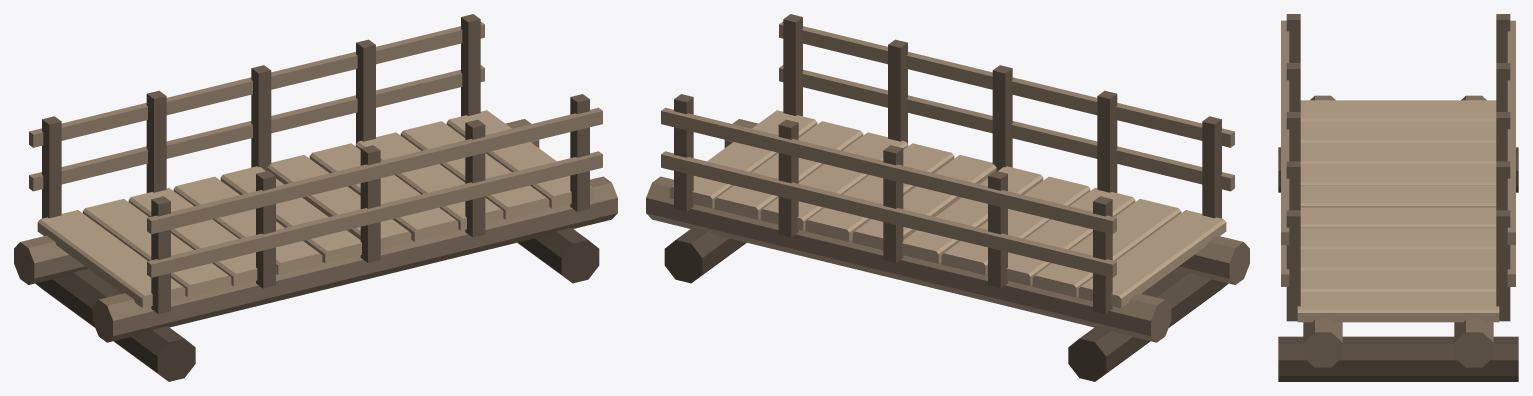
Rendered from log-plank-bridge-a5f74f.glb.
3 renders of one model, left to right at view 1: azimuth 30°, elevation 25°; view 2: azimuth 150°, elevation 25°; view 3: azimuth 270°, elevation 25°, orthographic. The views are drawn at different scales.
Visible parts, largest first — view 1: bridge; view 2: bridge; view 3: bridge.
Boxes of the visible parts, x1=… form: bridge: x1=14, y1=14, x2=617, y2=381; bridge: x1=646, y1=14, x2=1249, y2=381; bridge: x1=1278, y1=14, x2=1518, y2=381.
Bounding box in the file's own units: 4 × 1.33 × 1.72.
